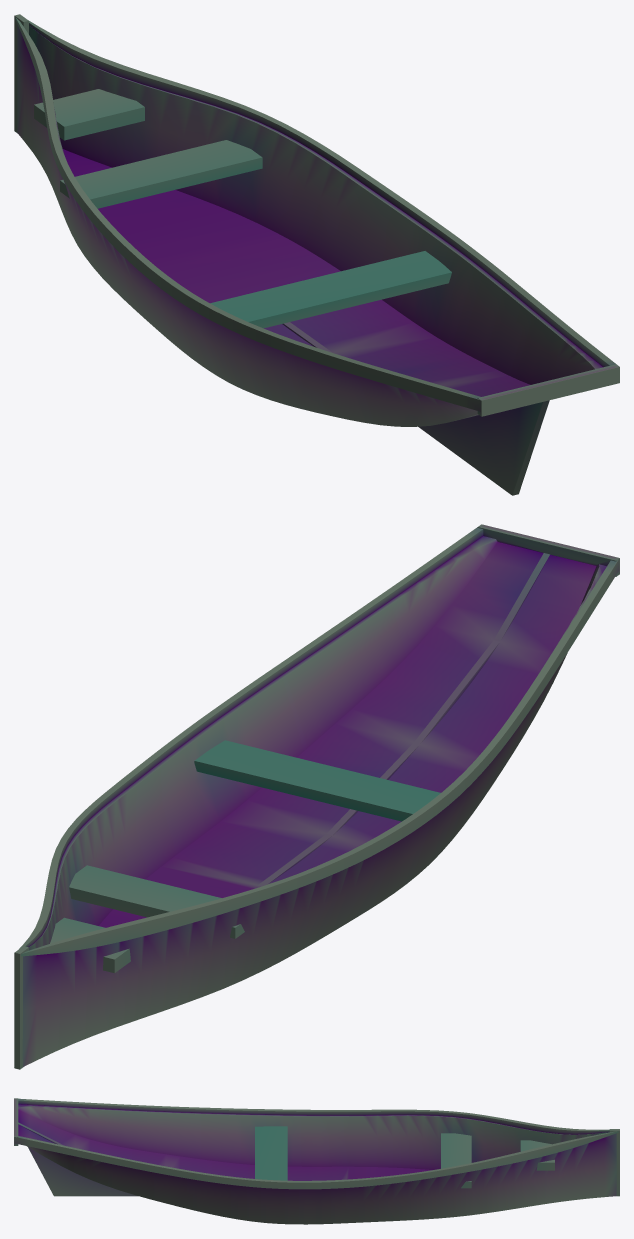
3 renders of one model, top to bottom at view 1: azimuth 30°, elevation 25°; view 2: azimuth 150°, elevation 25°; view 3: azimuth 270°, elevation 25°, orthographic. The views are drawn at different scales.
Visible parts, largest first — view 1: hull_skin, main_seat, forward_seat, bow_seat; view 2: hull_skin, main_seat, forward_seat, bow_seat, stem; view 3: hull_skin, main_seat, forward_seat, bow_seat, stem.
Part boxes in pixels (<box>): hull_skin: <box>14,17,619,495</box>; main_seat: <box>210,251,451,328</box>; forward_seat: <box>60,140,262,208</box>; bow_seat: <box>34,89,144,140</box>; hull_skin: <box>19,524,619,1069</box>; main_seat: <box>194,740,440,821</box>; forward_seat: <box>69,865,244,938</box>; bow_seat: <box>50,917,130,973</box>; stem: <box>14,946,28,1069</box>; hull_skin: <box>14,1098,618,1224</box>; main_seat: <box>255,1126,287,1180</box>; forward_seat: <box>441,1133,471,1188</box>; bow_seat: <box>520,1140,554,1170</box>; stem: <box>609,1129,619,1196</box>.
Size of the model in its own units: 1.14 by 0.5743 by 4.
